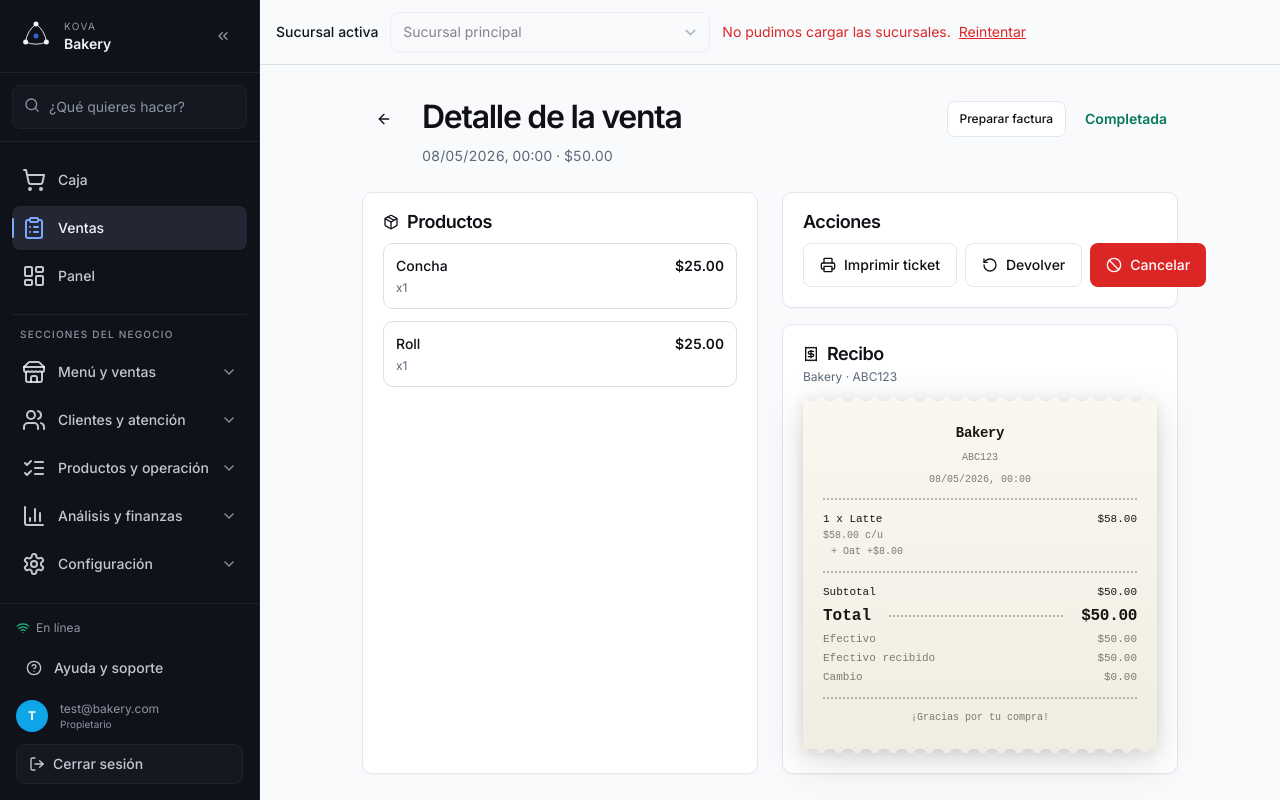
Scenario: OrderDetail › reuses the refund idempotency key after a lost response
Click the button "Devolver". click: (1024, 265)
box: left=965, top=243, right=1082, bottom=287
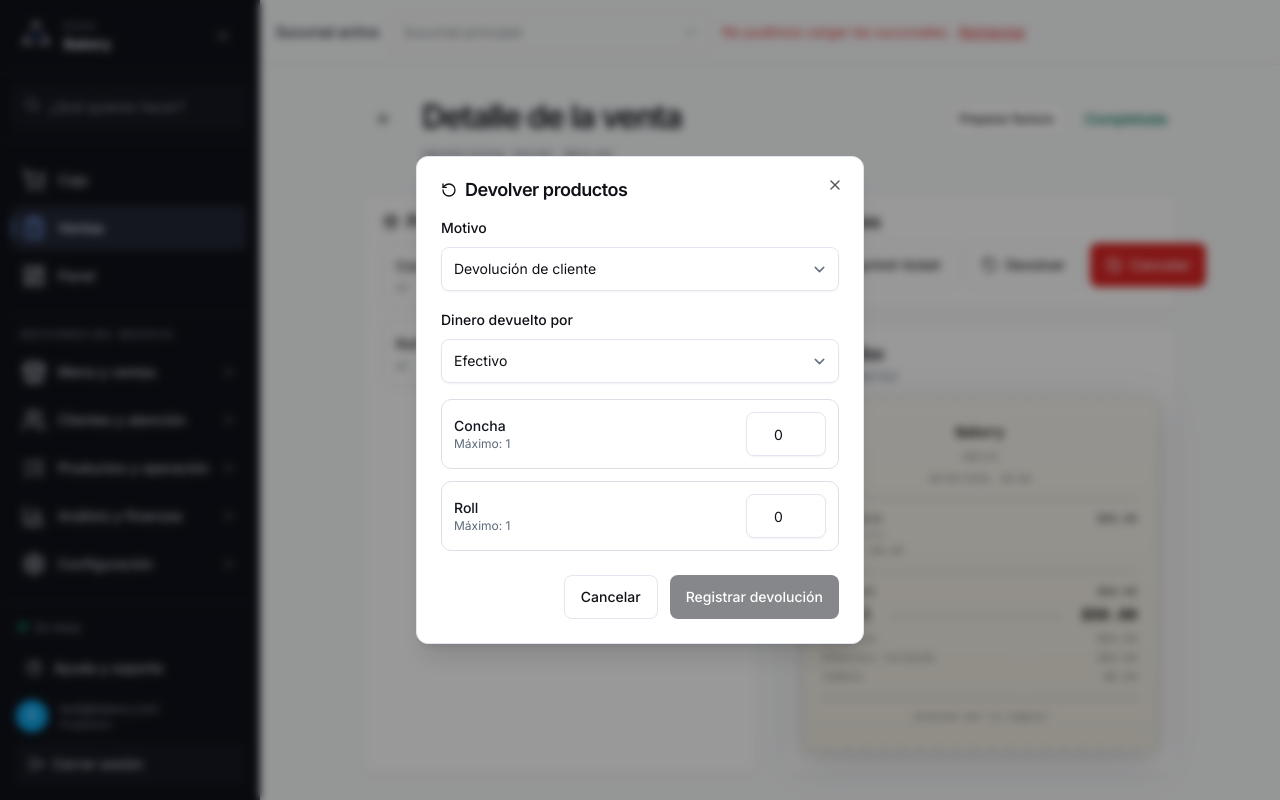
Replace the text in the number field named "Concha Cantidad" with "1". click: (786, 434)
box: left=746, top=412, right=826, bottom=456
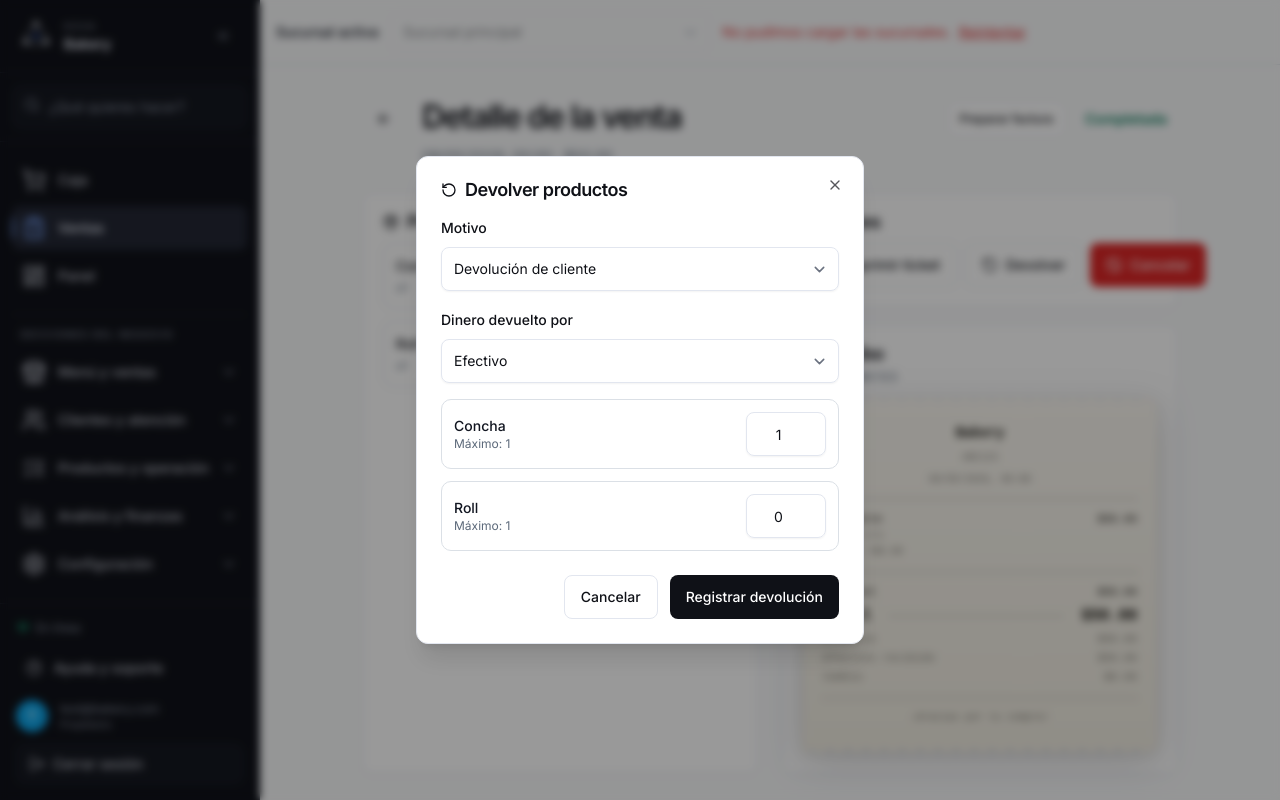
Click the button "Registrar devolución". click: (754, 597)
box: left=670, top=575, right=839, bottom=619
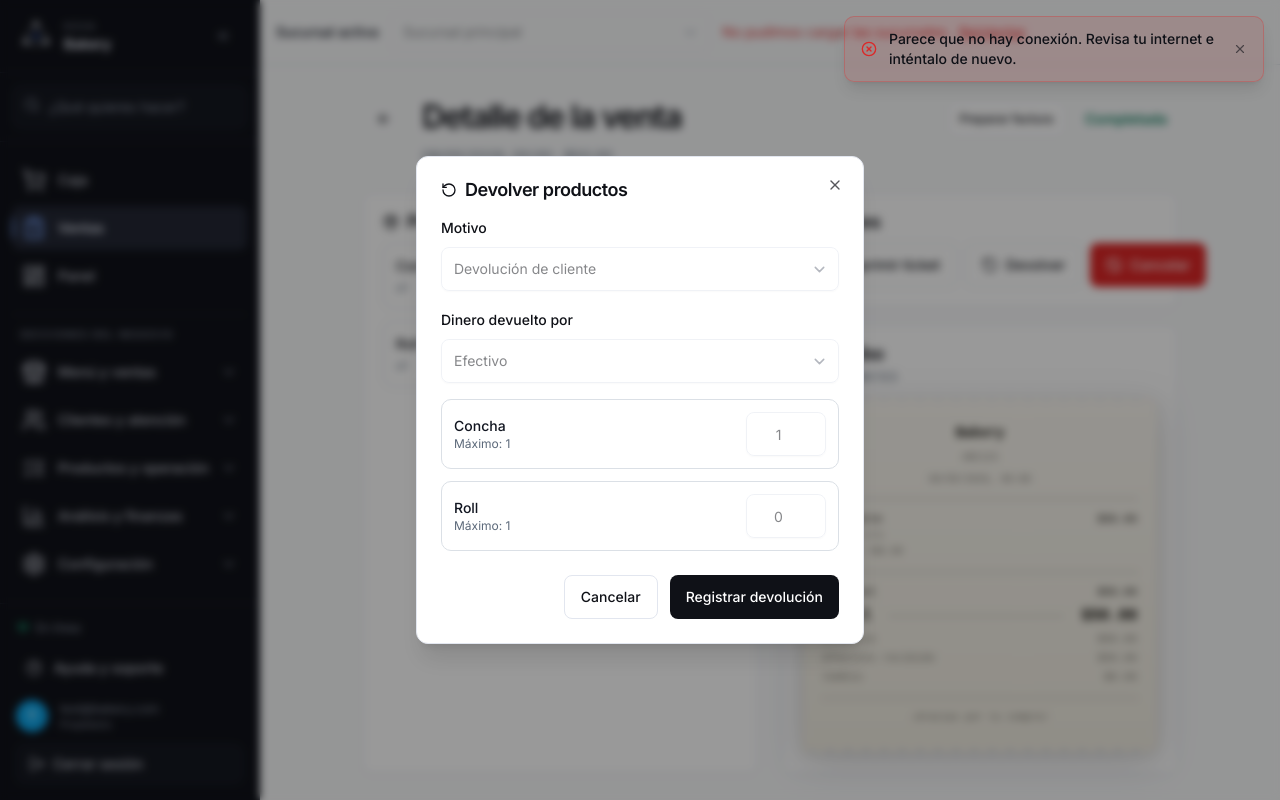
Expected: the number field named "Concha Cantidad" is disabled, left=746, top=412, right=826, bottom=456
Click the button "Registrar devolución". click: (754, 597)
box: left=670, top=575, right=839, bottom=619
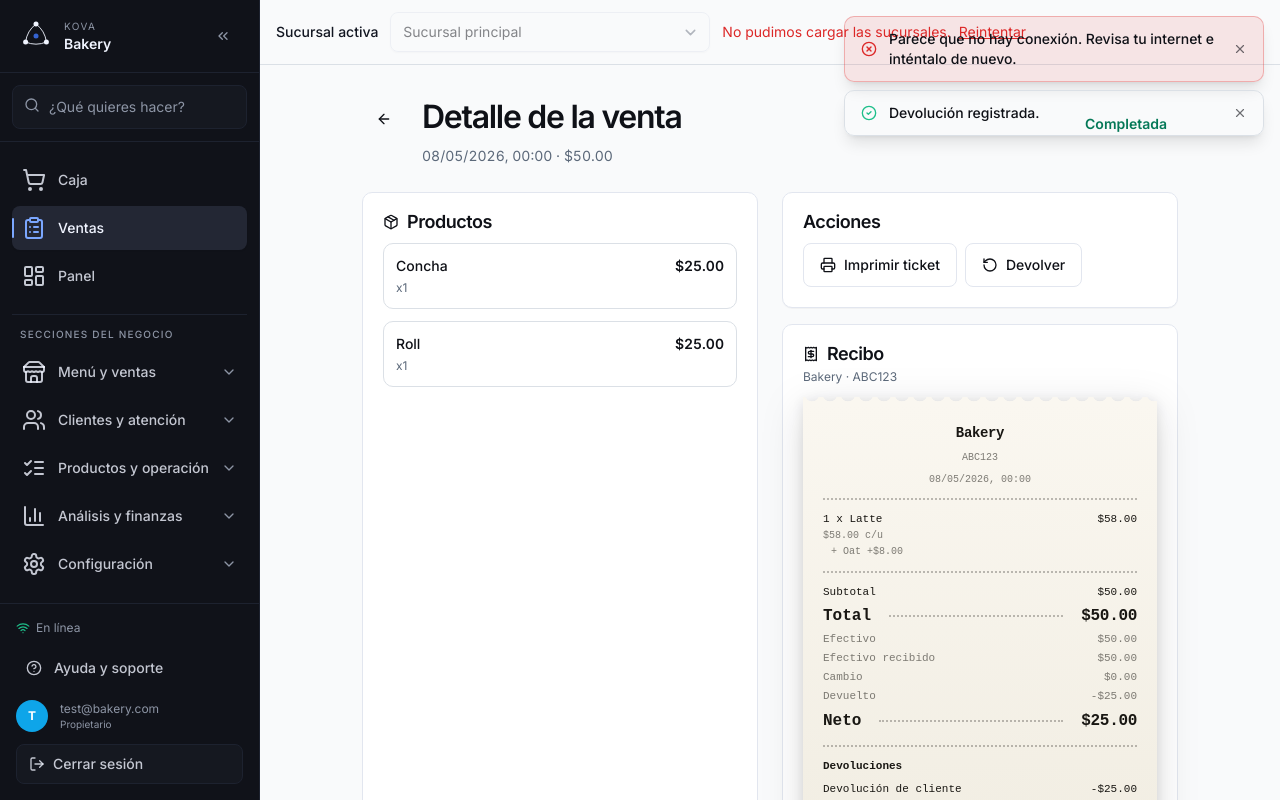
Expected: the text "Devolución registrada." is shown, left=889, top=104, right=1040, bottom=121
